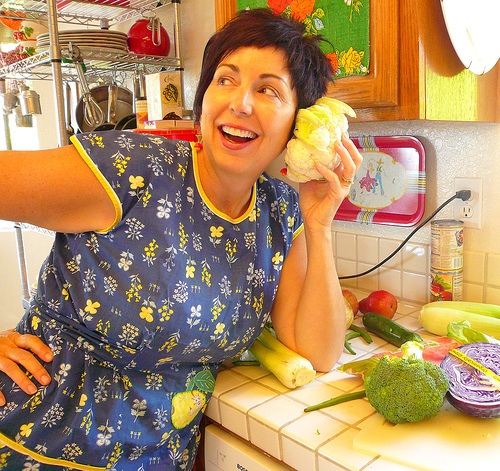cauliflower: (280, 91, 363, 195), (365, 340, 449, 425)
